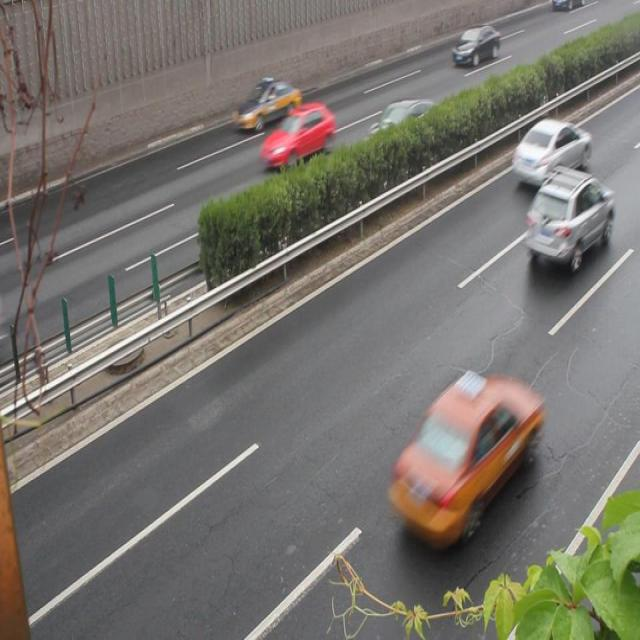car: (388, 370, 536, 536), (521, 166, 612, 271), (361, 98, 445, 176), (510, 117, 590, 190), (262, 103, 334, 171), (234, 79, 300, 132), (452, 26, 497, 68)
